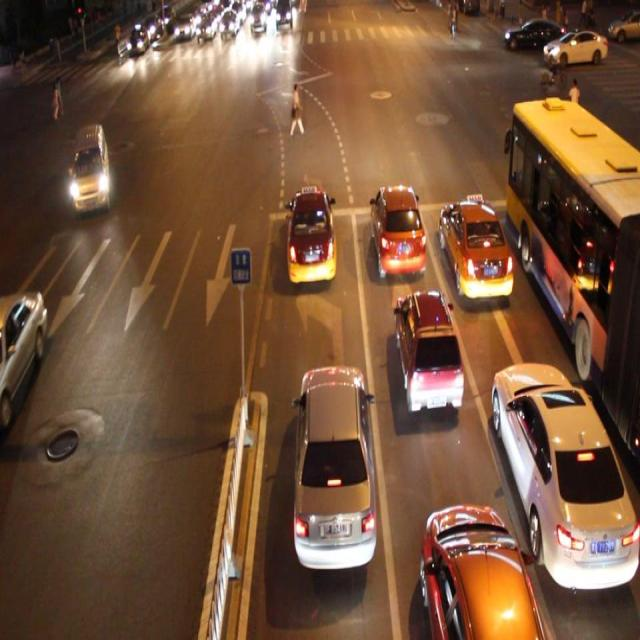car: (490, 355, 640, 596), (419, 499, 545, 640), (294, 364, 375, 568), (392, 288, 462, 414), (438, 195, 512, 302), (1, 285, 48, 426), (368, 181, 427, 278), (286, 184, 336, 284), (70, 126, 110, 211)
van: (505, 98, 640, 450)
